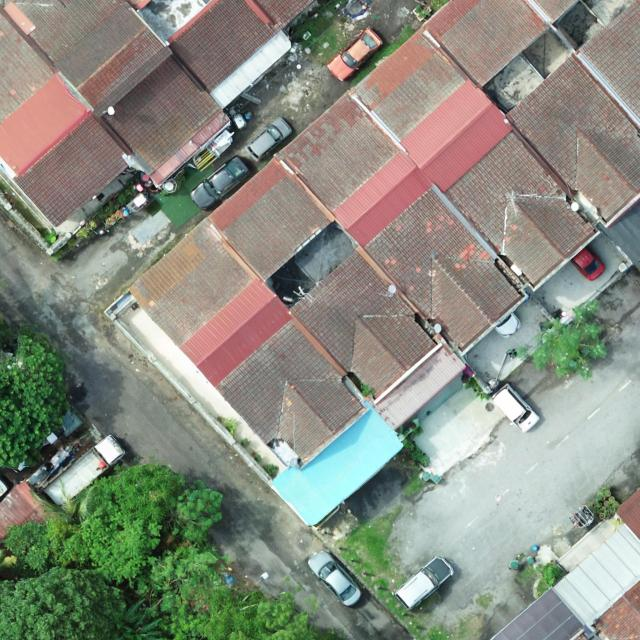Tree: (3, 462, 188, 584), (0, 320, 72, 471), (0, 564, 132, 640), (171, 588, 316, 640), (533, 298, 609, 382), (131, 548, 226, 613), (171, 479, 225, 543), (115, 599, 165, 640)
